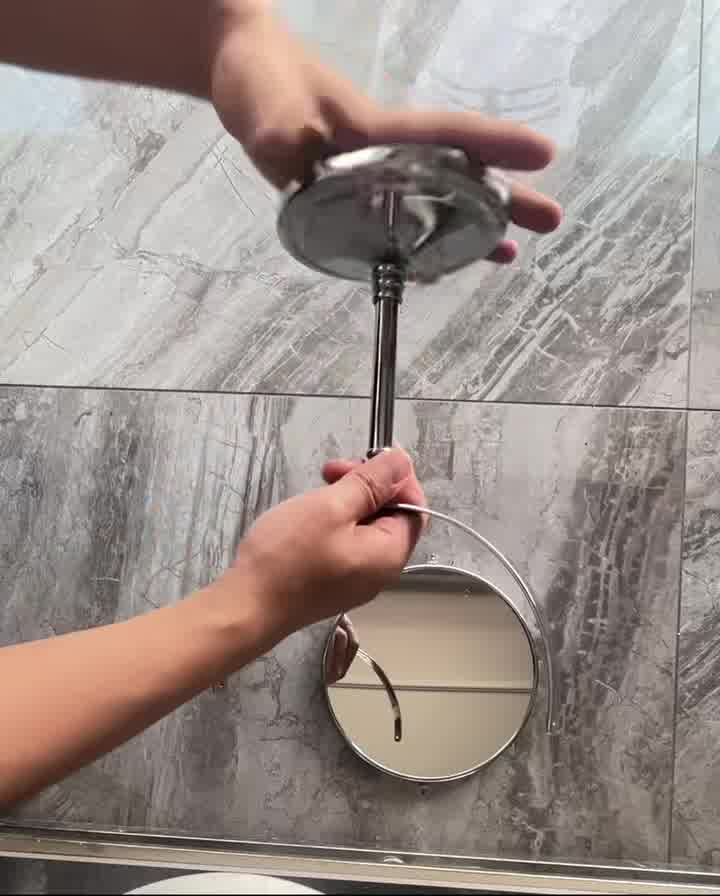base: (252, 138, 528, 272)
frame: (296, 262, 584, 711)
mirror: (318, 547, 550, 795)
